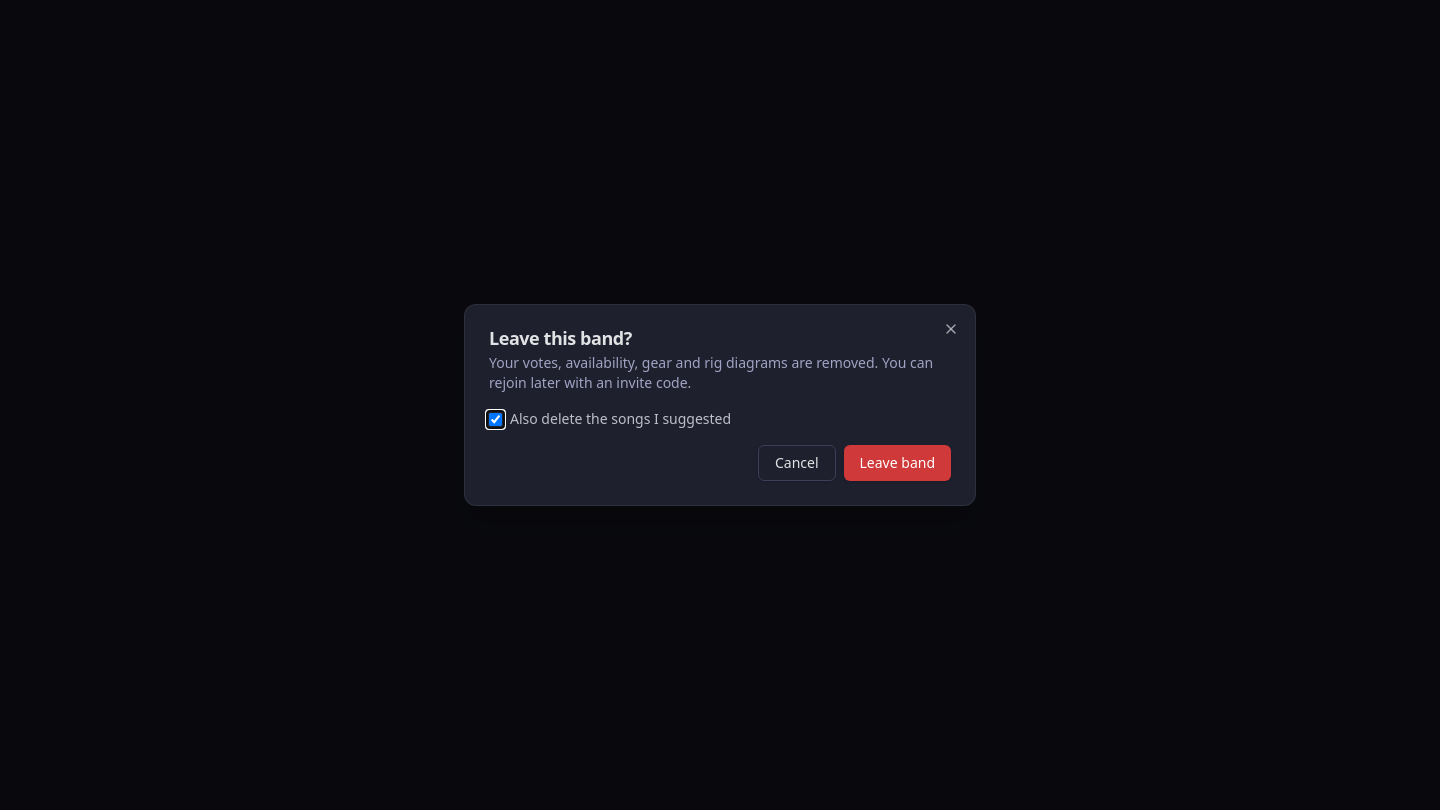
Test: LeaveBandDialog availability cleanup › still deletes the availability row when removing votes and songs fails
This screenshot has width=1440, height=810.
Step 1. Click the button "Leave band" → (897, 463), box [844, 445, 951, 481]
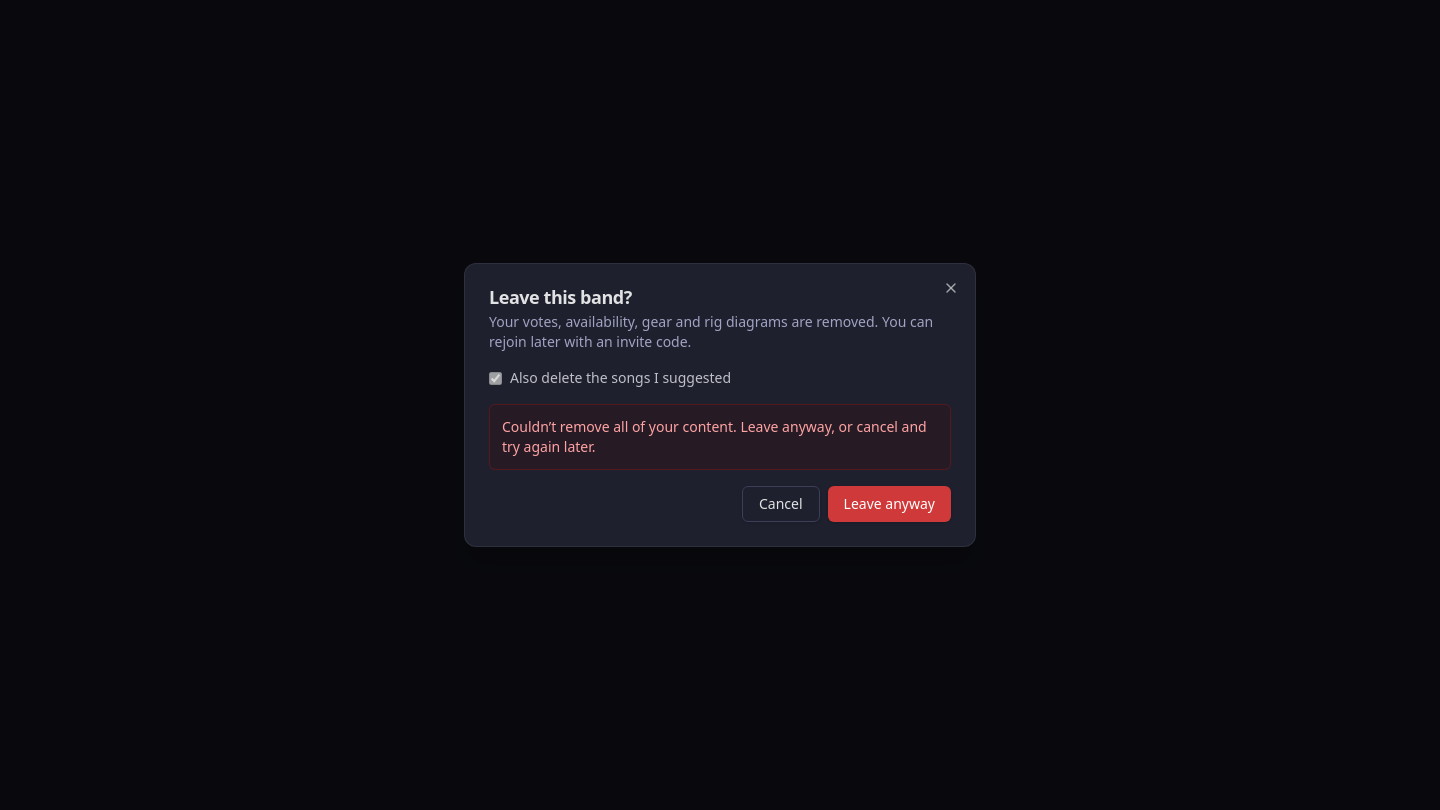
Now the message is shown, box [489, 404, 951, 470]
